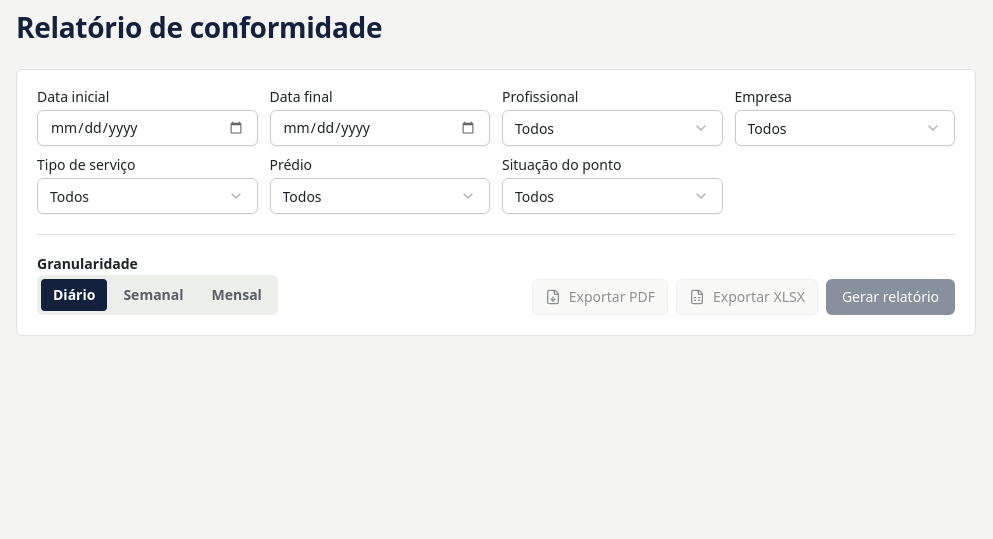
ReportsPage › shows the empty state when the report has no periods
Type "2026-08-01" into the date field labelled "Data inicial".
click(147, 128); type("2026-08-01")  # box [37,110,258,146]
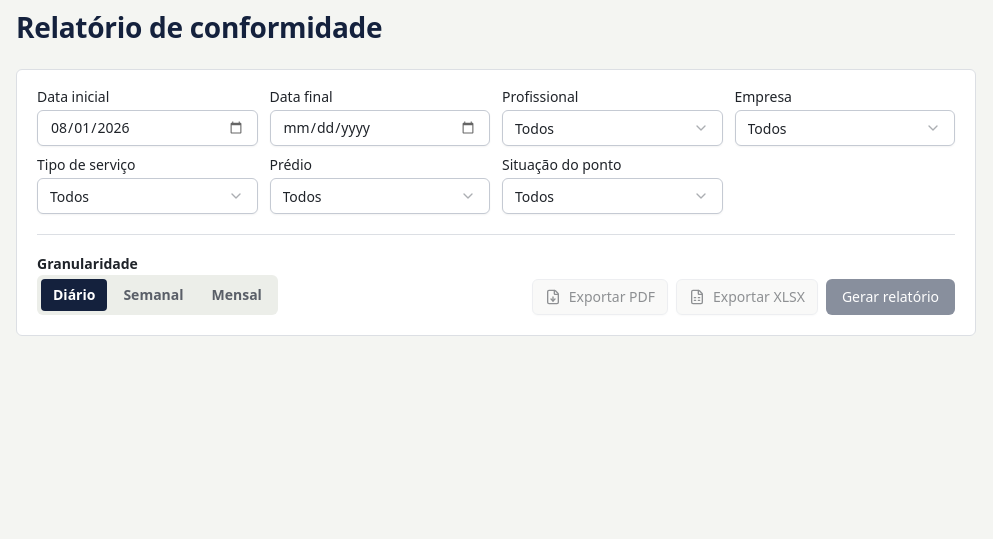
Type "2026-08-02" into the date field labelled "Data final".
click(380, 128); type("2026-08-02")  # box [270,110,490,146]
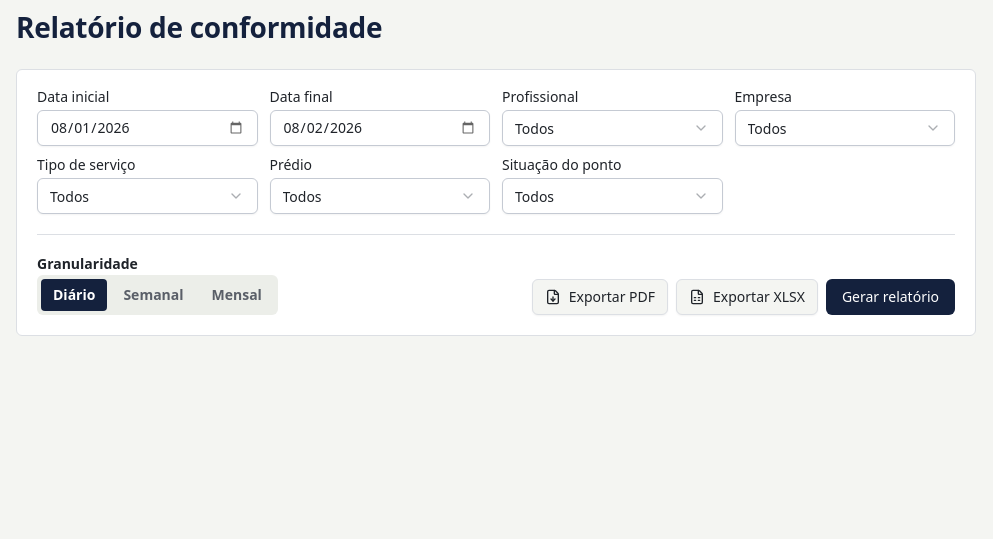
Click the button "Gerar relatório".
click(890, 297)  # box [826,279,955,315]
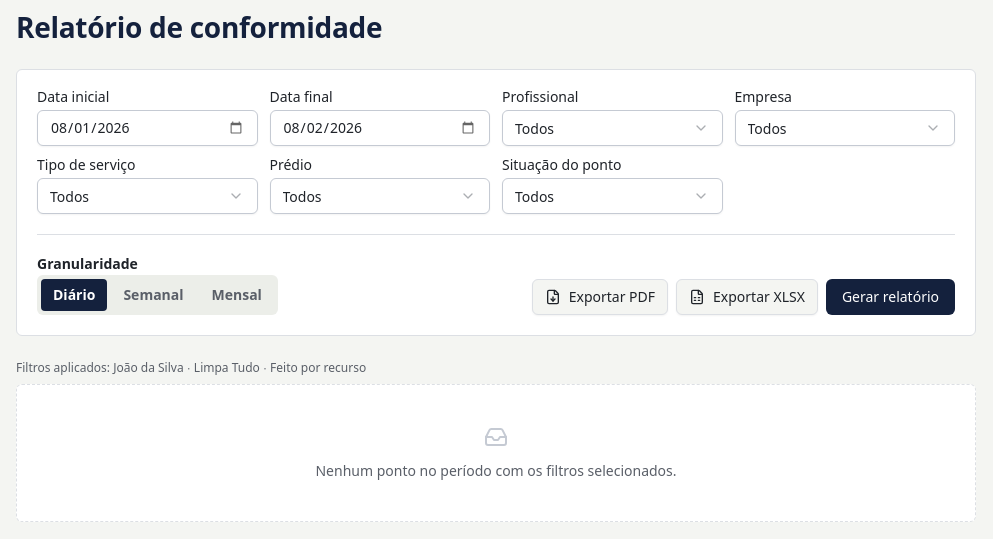
Check: the text "Nenhum ponto no período com os filtros selecionados." is shown, box [316,461,677,481]
